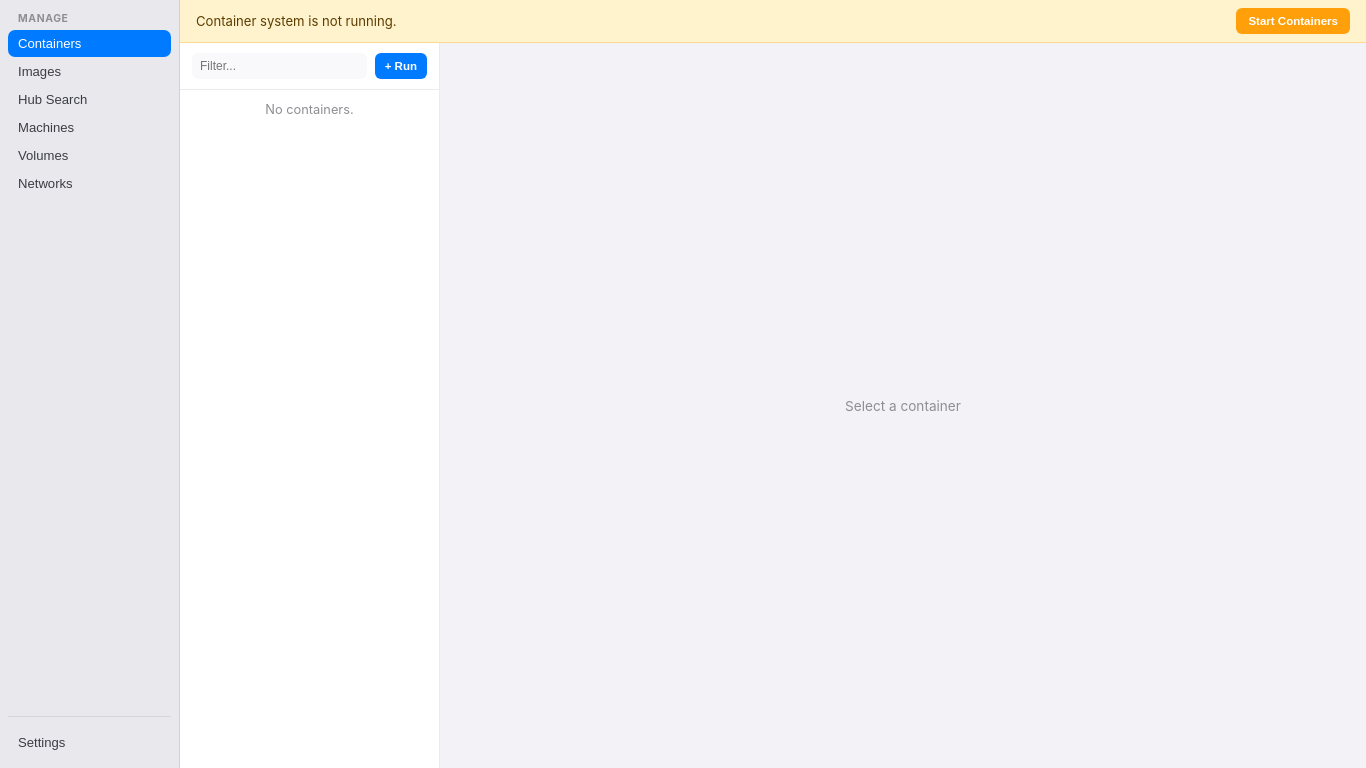
Test: App system banner › clears the error once a retry succeeds
What coordinates should you click on to do the following:
click the button "Start Containers"
I would click on:
 (1293, 21)
Its box is [1236,8,1350,34].
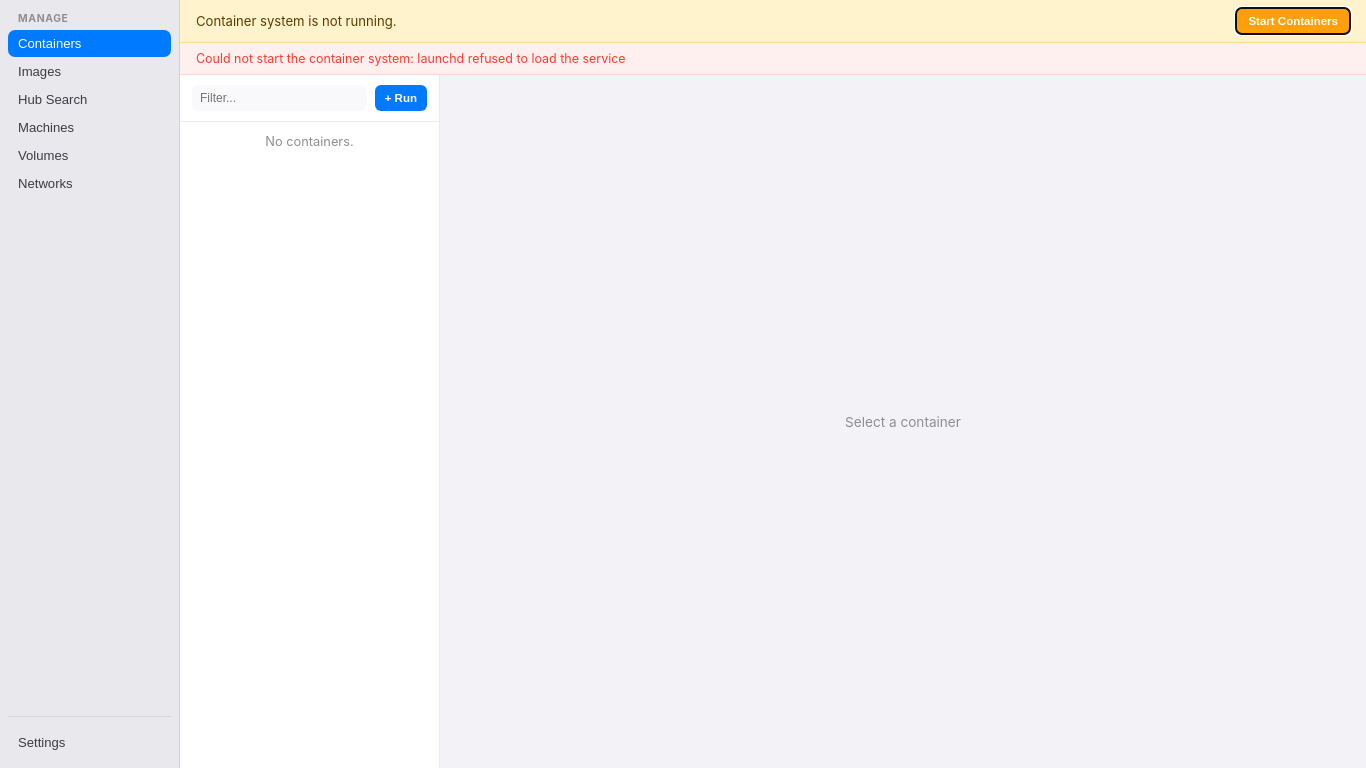
Now the message "Could not start the container system: launchd refused to load the service" is shown, box [180,43,1365,75]
What coordinates should you click on to do the following:
click the button "Start Containers"
I would click on:
 (1293, 21)
Its box is [1236,8,1350,34].
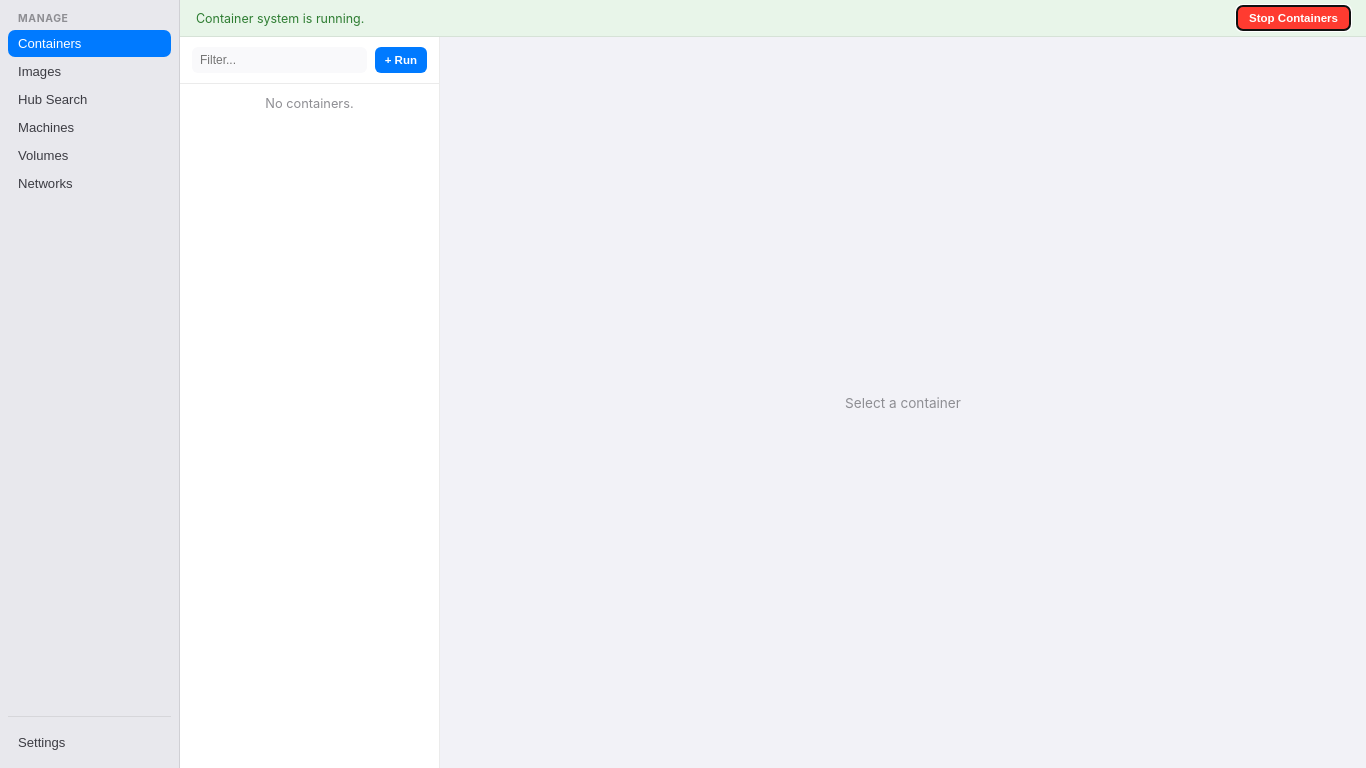
Now the message "Could not start the container system: launchd refused to load the service" is gone
Now the text "Container system is running." is shown, box [196,10,364,26]
